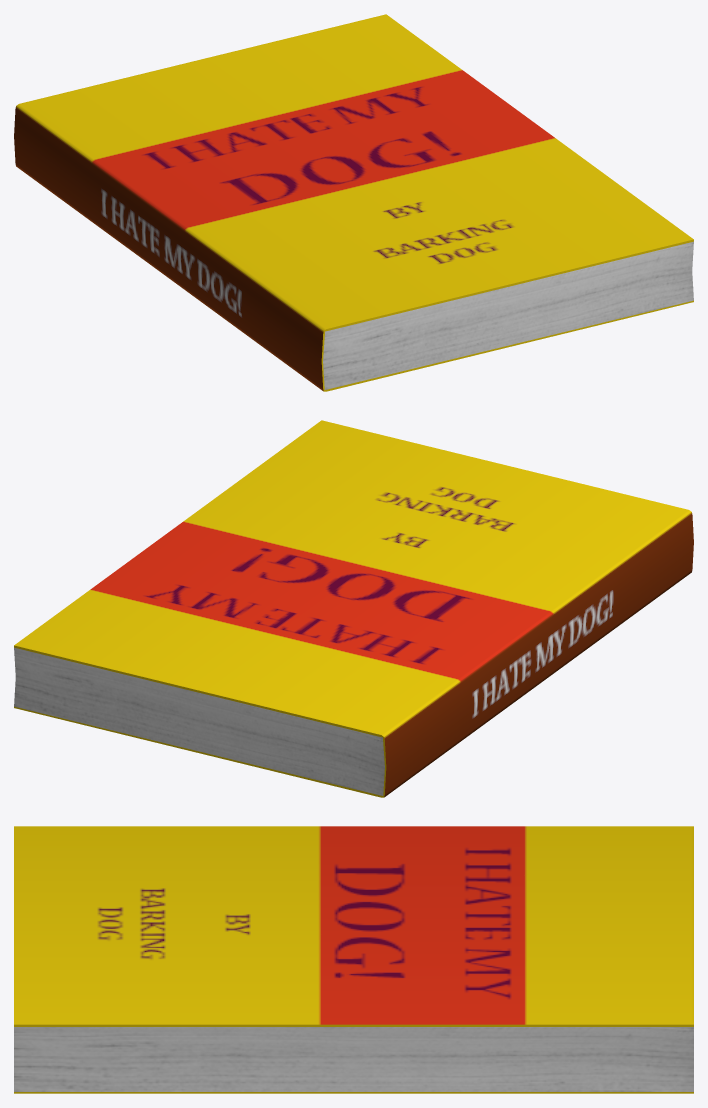
Rendered from Book_09.FBX.
3 renders of one model, top to bottom at view 1: azimuth 30°, elevation 25°; view 2: azimuth 150°, elevation 25°; view 3: azimuth 270°, elevation 25°, orthographic. The views are drawn at different scales.
Visible parts, largest first — view 1: Book_09; view 2: Book_09; view 3: Book_09.
Part boxes in pixels (left/top/right/bottom): Book_09: left=14, top=14, right=693, bottom=391; Book_09: left=14, top=420, right=693, bottom=797; Book_09: left=14, top=826, right=693, bottom=1093.
Bounding box in the file's own units: 0.2524 × 0.0405 × 0.3613.
1 material, 1 textured.
